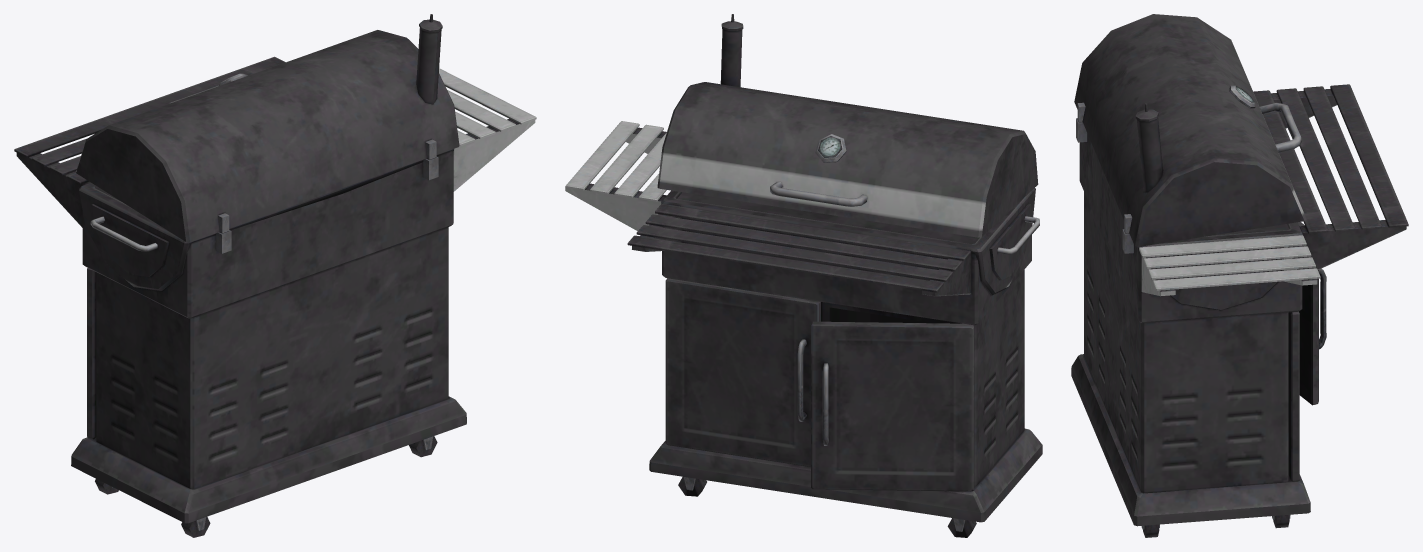
Rendered from ItemSpot.fbx.
3 renders of one model, left to right at view 1: azimuth 30°, elevation 25°; view 2: azimuth 150°, elevation 25°; view 3: azimuth 270°, elevation 25°, orthographic. The views are drawn at different scales.
Visible parts, largest first — view 1: ItemBox_BarbequeGrill_01; view 2: ItemBox_BarbequeGrill_01; view 3: ItemBox_BarbequeGrill_01.
Boxes of the visible parts, <box> form: ItemBox_BarbequeGrill_01: <box>14,14,536,537</box>; ItemBox_BarbequeGrill_01: <box>565,14,1042,537</box>; ItemBox_BarbequeGrill_01: <box>1071,14,1408,537</box>.
Size of the model in its own units: 1.75 by 1.72 by 1.21.
Materials: 1 (1 with a texture image).
